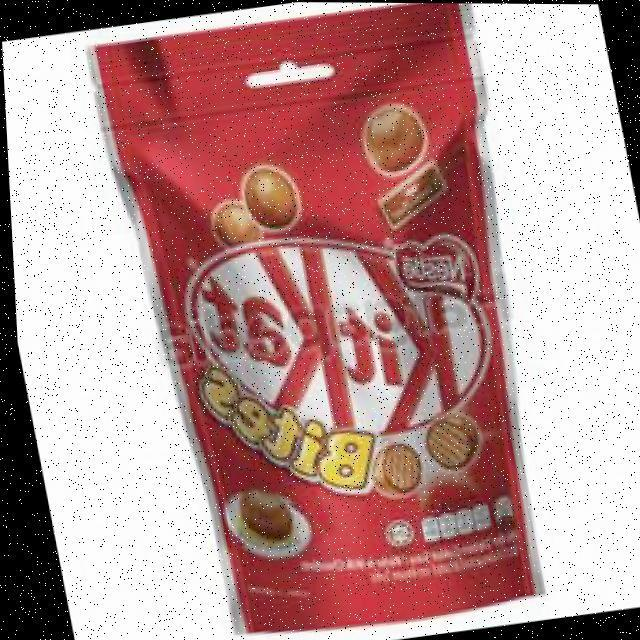kitkat_chocolate: (124, 23, 581, 640)
